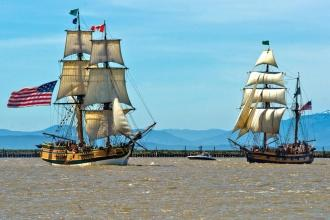fanchuan: (41, 8, 164, 170), (220, 38, 325, 162)
otherboat: (186, 149, 217, 161)
